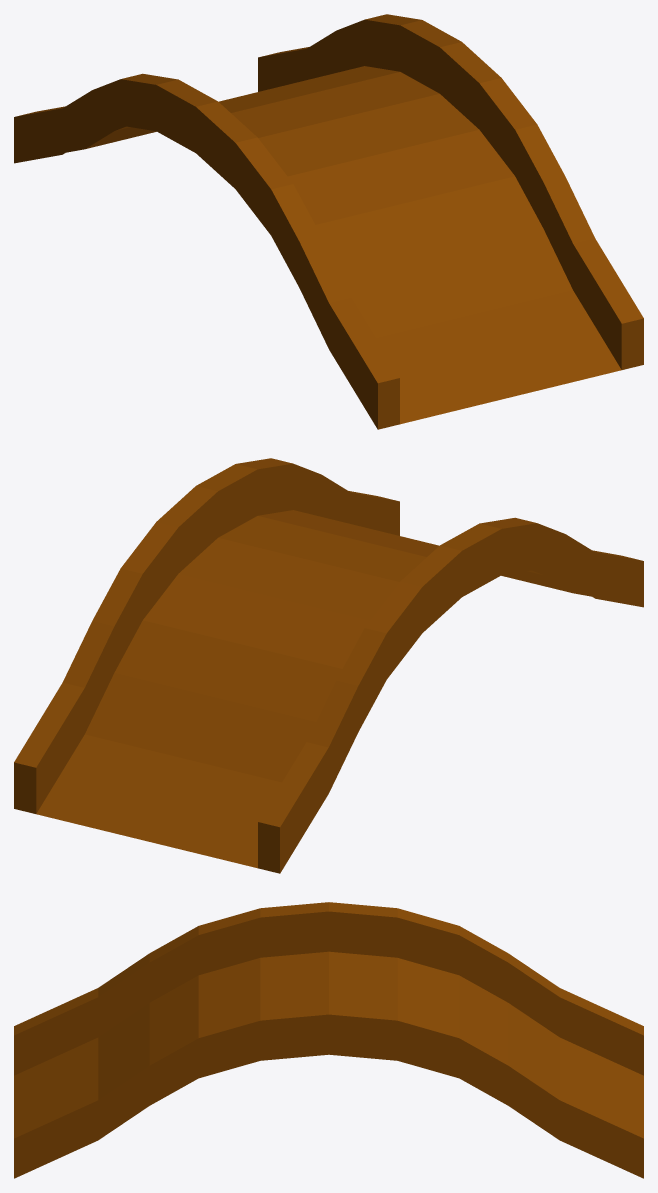
Rendered from Bridge01.obj.
3 renders of one model, top to bottom at view 1: azimuth 30°, elevation 25°; view 2: azimuth 150°, elevation 25°; view 3: azimuth 270°, elevation 25°, orthographic. The views are drawn at different scales.
Visible parts, largest first — view 1: Bridge01; view 2: Bridge01; view 3: Bridge01.
Part boxes in pixels (left/top/right/bottom): Bridge01: left=14, top=14, right=643, bottom=429; Bridge01: left=14, top=458, right=643, bottom=873; Bridge01: left=14, top=902, right=643, bottom=1178.
Size of the model in its own units: 0.72 by 0.4905 by 1.7.
1 material, 1 textured.
